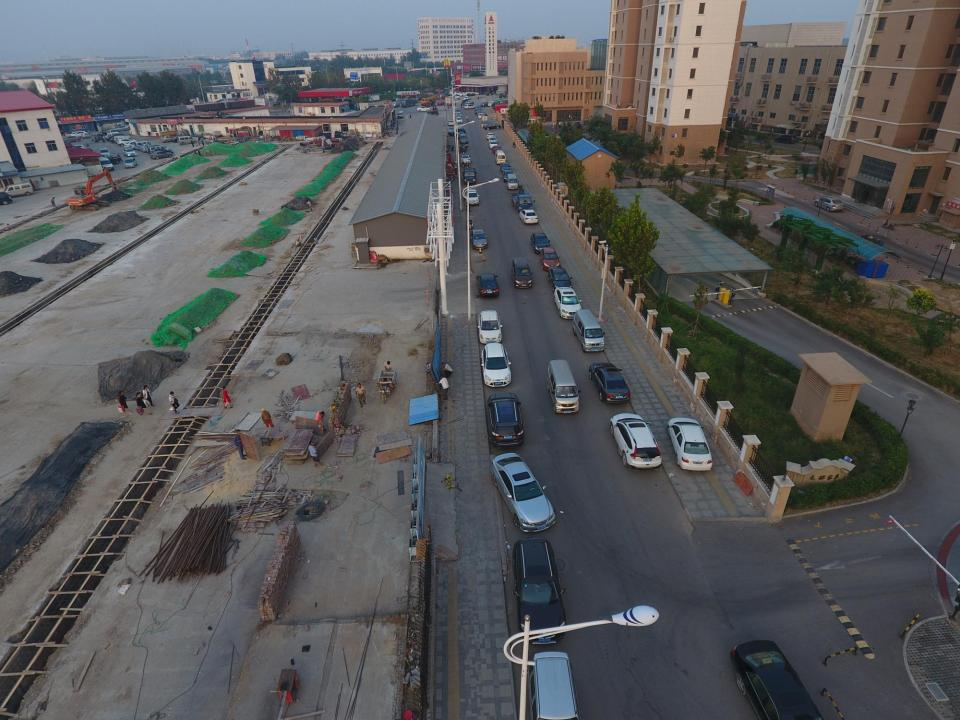car: (733, 639, 821, 719), (512, 538, 566, 643), (491, 452, 555, 533), (610, 413, 662, 468), (667, 417, 713, 472), (487, 392, 526, 448), (590, 362, 631, 402), (480, 342, 512, 388), (554, 287, 584, 318), (477, 310, 503, 343), (547, 266, 572, 291), (475, 273, 499, 295), (541, 247, 561, 271), (531, 233, 552, 255), (815, 197, 845, 212), (772, 132, 799, 146), (470, 230, 488, 249), (519, 209, 537, 224), (464, 189, 480, 205), (149, 152, 172, 160), (448, 128, 466, 136), (125, 157, 137, 168), (99, 147, 111, 158), (503, 170, 514, 182), (161, 135, 179, 142), (500, 163, 512, 173), (483, 123, 500, 130), (172, 135, 191, 141), (123, 148, 137, 156), (460, 154, 471, 164), (492, 145, 502, 154), (488, 140, 498, 149), (417, 106, 430, 111), (489, 136, 497, 143), (487, 132, 494, 140), (289, 107, 298, 113), (456, 117, 463, 124), (458, 132, 464, 140), (392, 102, 400, 108), (447, 120, 454, 126), (437, 100, 445, 105), (448, 126, 454, 132), (455, 109, 461, 115), (478, 113, 484, 119), (455, 115, 462, 120), (458, 126, 464, 131), (390, 97, 396, 102), (456, 112, 462, 117), (396, 97, 400, 101)
truck: (510, 192, 536, 211), (462, 168, 477, 184), (100, 156, 122, 164), (421, 97, 436, 107), (400, 99, 418, 107), (445, 96, 455, 106), (368, 95, 380, 102), (481, 115, 488, 123)
van: (528, 650, 581, 718), (548, 359, 580, 413), (573, 308, 606, 353), (511, 256, 533, 288), (3, 182, 33, 199), (97, 157, 114, 171), (506, 173, 519, 190), (495, 149, 506, 164), (177, 136, 196, 144), (500, 109, 515, 116), (522, 118, 535, 126), (459, 133, 468, 144), (397, 111, 404, 118)
